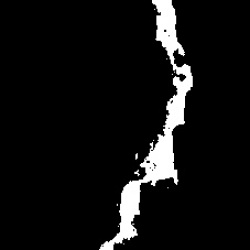crack: (101, 2, 195, 249)
